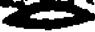Mouth: (2, 1, 95, 29)
